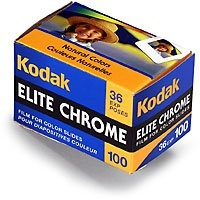grozi_114: (11, 1, 194, 174)
